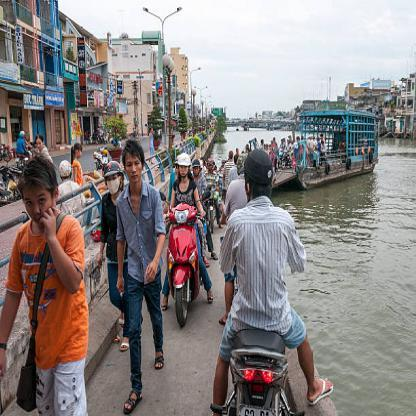Motorcycle: (212, 312, 300, 415), (160, 192, 204, 323)
